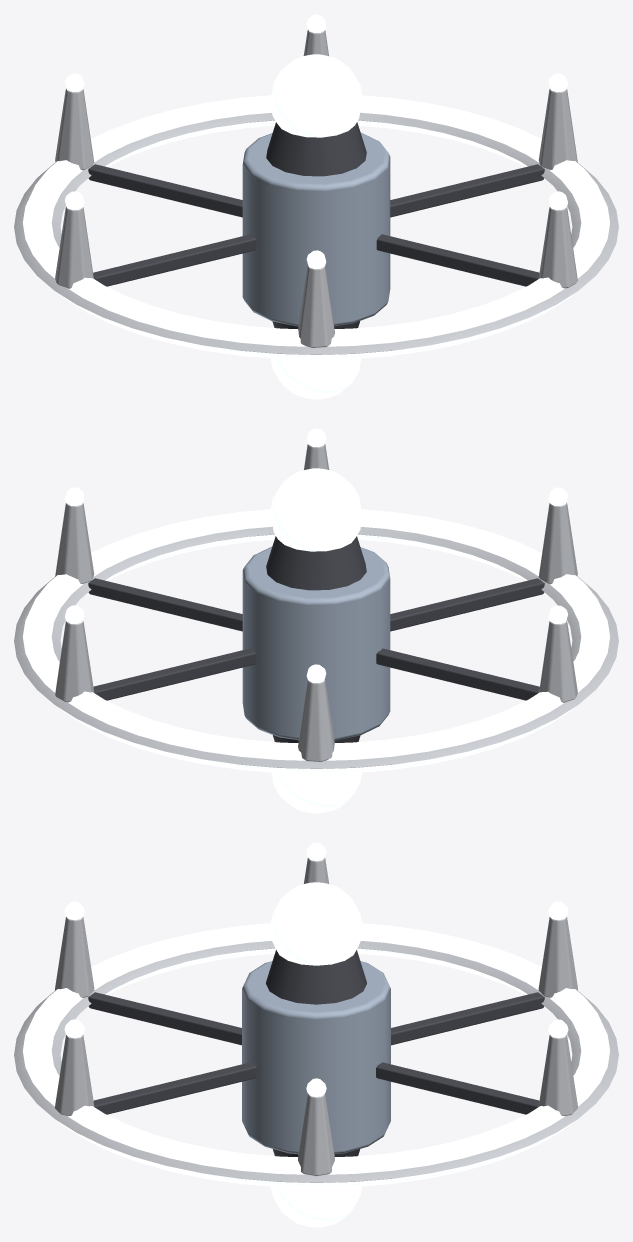
Rendered from shield.glb.
3 renders of one model, top to bottom at view 1: azimuth 30°, elevation 25°; view 2: azimuth 150°, elevation 25°; view 3: azimuth 270°, elevation 25°, orthographic.
Visible parts, largest first — view 1: shield; view 2: shield; view 3: shield.
Part boxes in pixels (x1,y1,x2,y2): shield: (14,14,618,399); shield: (14,428,618,813); shield: (14,842,618,1227).
Bounding box in the file's own units: 1.3 × 0.8 × 1.3.
